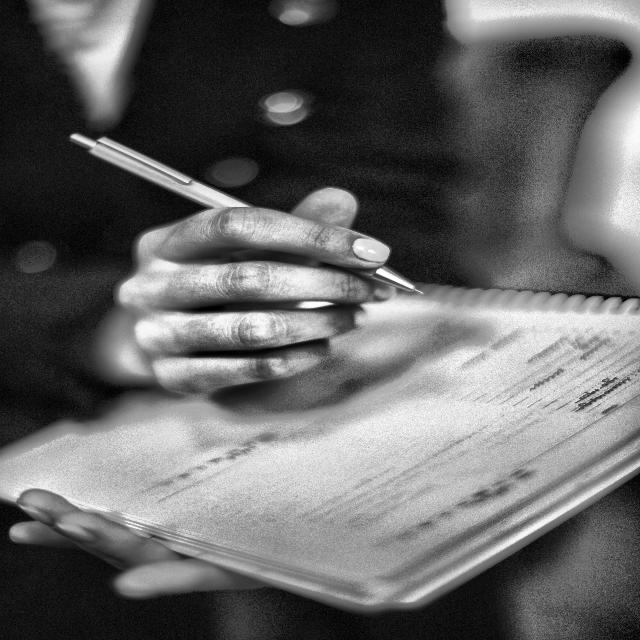Notebook: (2, 266, 640, 618)
Pen: (70, 134, 275, 214), (344, 266, 425, 294)
